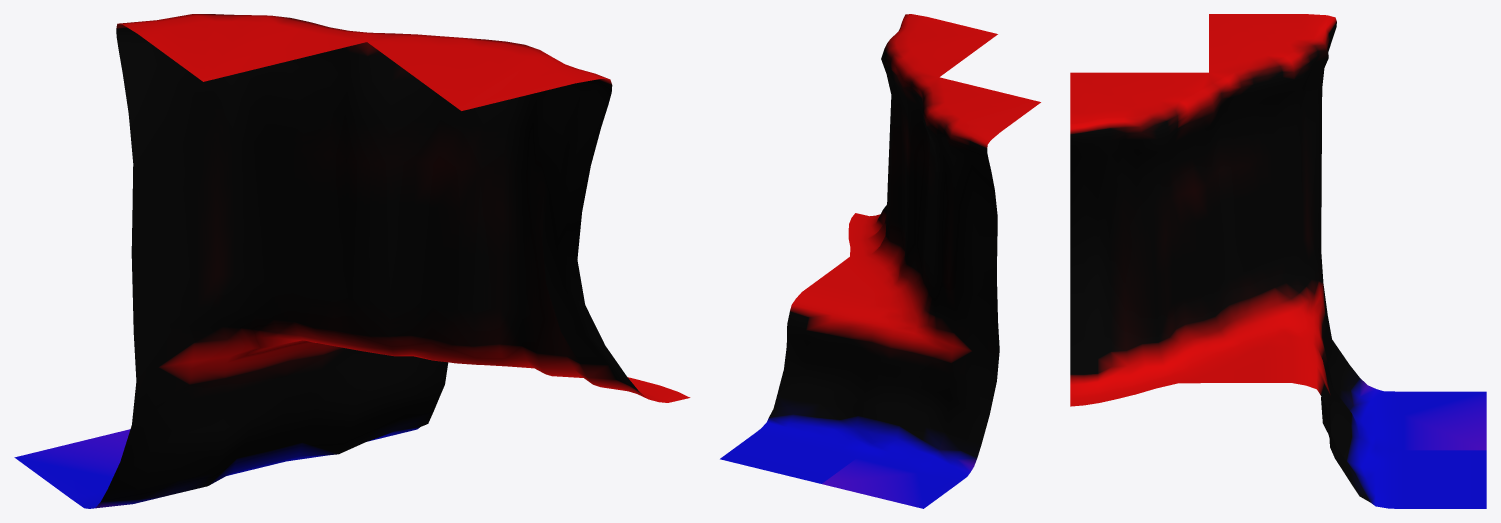
The model's file is RiveCliffToCliff 1x3x2 Background.fbx.
The picture shows the model from 3 angles, left to right: view 1: azimuth 30°, elevation 25°; view 2: azimuth 150°, elevation 25°; view 3: azimuth 270°, elevation 25°; orthographic projection. The views are drawn at different scales.
Parts seen in each view (by area): view 1: RiveCliffToCliff 1x3x2 Background; view 2: RiveCliffToCliff 1x3x2 Background; view 3: RiveCliffToCliff 1x3x2 Background.
Part boxes in pixels (x1,y1,x2,y2): RiveCliffToCliff 1x3x2 Background: [14, 14, 690, 508]; RiveCliffToCliff 1x3x2 Background: [720, 14, 1040, 508]; RiveCliffToCliff 1x3x2 Background: [1070, 14, 1486, 508].
Bounding box in the file's own units: 2.4 × 3 × 3.
